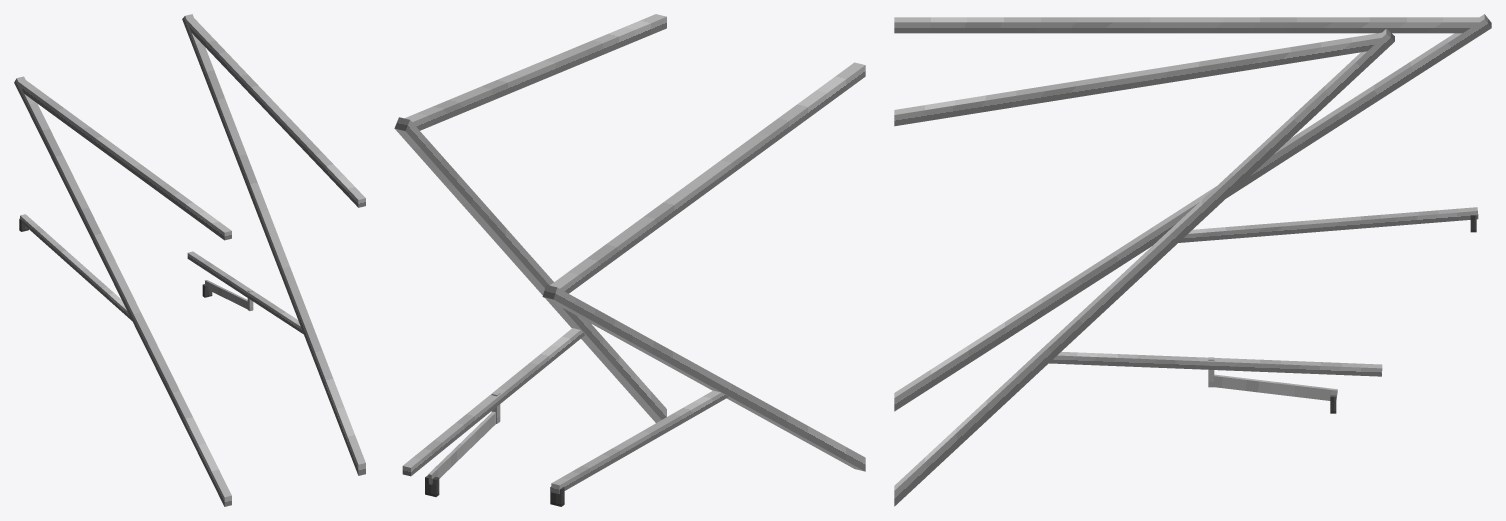
Rendered from cantilever_inner_16px.obj.
The picture shows the model from 3 angles, left to right: view 1: azimuth 30°, elevation 25°; view 2: azimuth 150°, elevation 25°; view 3: azimuth 270°, elevation 25°; orthographic projection. The views are drawn at different scales.
Parts seen in each view (by area): view 1: afcd1b3a-d4ff-42ca-86f1-779702e279ab, 32288b43-8e86-46b1-a991-37594c62d671, ba7c68ed-fc28-4680-86b3-4df50207c6f3, ee898711-7ee9-4af1-b48a-73e95ce6bbeb, f86af154-f935-48d1-b4ca-5fadaadea847, 1e40c5bf-4a4c-4e44-87ad-7c22bb1b19e5, 1b899649-4fbe-4f2a-a268-48e5cf5af3ca; view 2: ba7c68ed-fc28-4680-86b3-4df50207c6f3, afcd1b3a-d4ff-42ca-86f1-779702e279ab, 32288b43-8e86-46b1-a991-37594c62d671, ee898711-7ee9-4af1-b48a-73e95ce6bbeb, 1e40c5bf-4a4c-4e44-87ad-7c22bb1b19e5, f86af154-f935-48d1-b4ca-5fadaadea847, 1b899649-4fbe-4f2a-a268-48e5cf5af3ca; view 3: afcd1b3a-d4ff-42ca-86f1-779702e279ab, 32288b43-8e86-46b1-a991-37594c62d671, ba7c68ed-fc28-4680-86b3-4df50207c6f3, ee898711-7ee9-4af1-b48a-73e95ce6bbeb, 1e40c5bf-4a4c-4e44-87ad-7c22bb1b19e5, f86af154-f935-48d1-b4ca-5fadaadea847, 1b899649-4fbe-4f2a-a268-48e5cf5af3ca.
Boxes of the visible parts, <box> form: afcd1b3a-d4ff-42ca-86f1-779702e279ab: <box>182,14,365,475</box>; 32288b43-8e86-46b1-a991-37594c62d671: <box>14,76,231,506</box>; ba7c68ed-fc28-4680-86b3-4df50207c6f3: <box>18,80,231,240</box>; ee898711-7ee9-4af1-b48a-73e95ce6bbeb: <box>187,18,365,207</box>; f86af154-f935-48d1-b4ca-5fadaadea847: <box>20,214,131,320</box>; 1e40c5bf-4a4c-4e44-87ad-7c22bb1b19e5: <box>187,251,303,334</box>; 1b899649-4fbe-4f2a-a268-48e5cf5af3ca: <box>205,280,247,309</box>; ba7c68ed-fc28-4680-86b3-4df50207c6f3: <box>550,62,865,293</box>; afcd1b3a-d4ff-42ca-86f1-779702e279ab: <box>394,117,666,422</box>; 32288b43-8e86-46b1-a991-37594c62d671: <box>542,285,865,471</box>; ee898711-7ee9-4af1-b48a-73e95ce6bbeb: <box>405,14,666,130</box>; 1e40c5bf-4a4c-4e44-87ad-7c22bb1b19e5: <box>402,328,584,476</box>; f86af154-f935-48d1-b4ca-5fadaadea847: <box>551,390,728,493</box>; 1b899649-4fbe-4f2a-a268-48e5cf5af3ca: <box>428,411,495,484</box>; afcd1b3a-d4ff-42ca-86f1-779702e279ab: <box>894,29,1394,506</box>; 32288b43-8e86-46b1-a991-37594c62d671: <box>894,14,1491,411</box>; ba7c68ed-fc28-4680-86b3-4df50207c6f3: <box>894,17,1479,33</box>; ee898711-7ee9-4af1-b48a-73e95ce6bbeb: <box>894,32,1381,126</box>; 1e40c5bf-4a4c-4e44-87ad-7c22bb1b19e5: <box>1049,352,1382,376</box>; f86af154-f935-48d1-b4ca-5fadaadea847: <box>1179,207,1478,242</box>; 1b899649-4fbe-4f2a-a268-48e5cf5af3ca: <box>1214,374,1337,400</box>.
Bounding box in the file's own units: 1.19 × 2.68 × 3.06.
